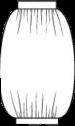Hemline: (16, 123, 58, 125)
Waistline: (16, 117, 58, 118), (17, 0, 56, 1), (17, 8, 56, 9)
